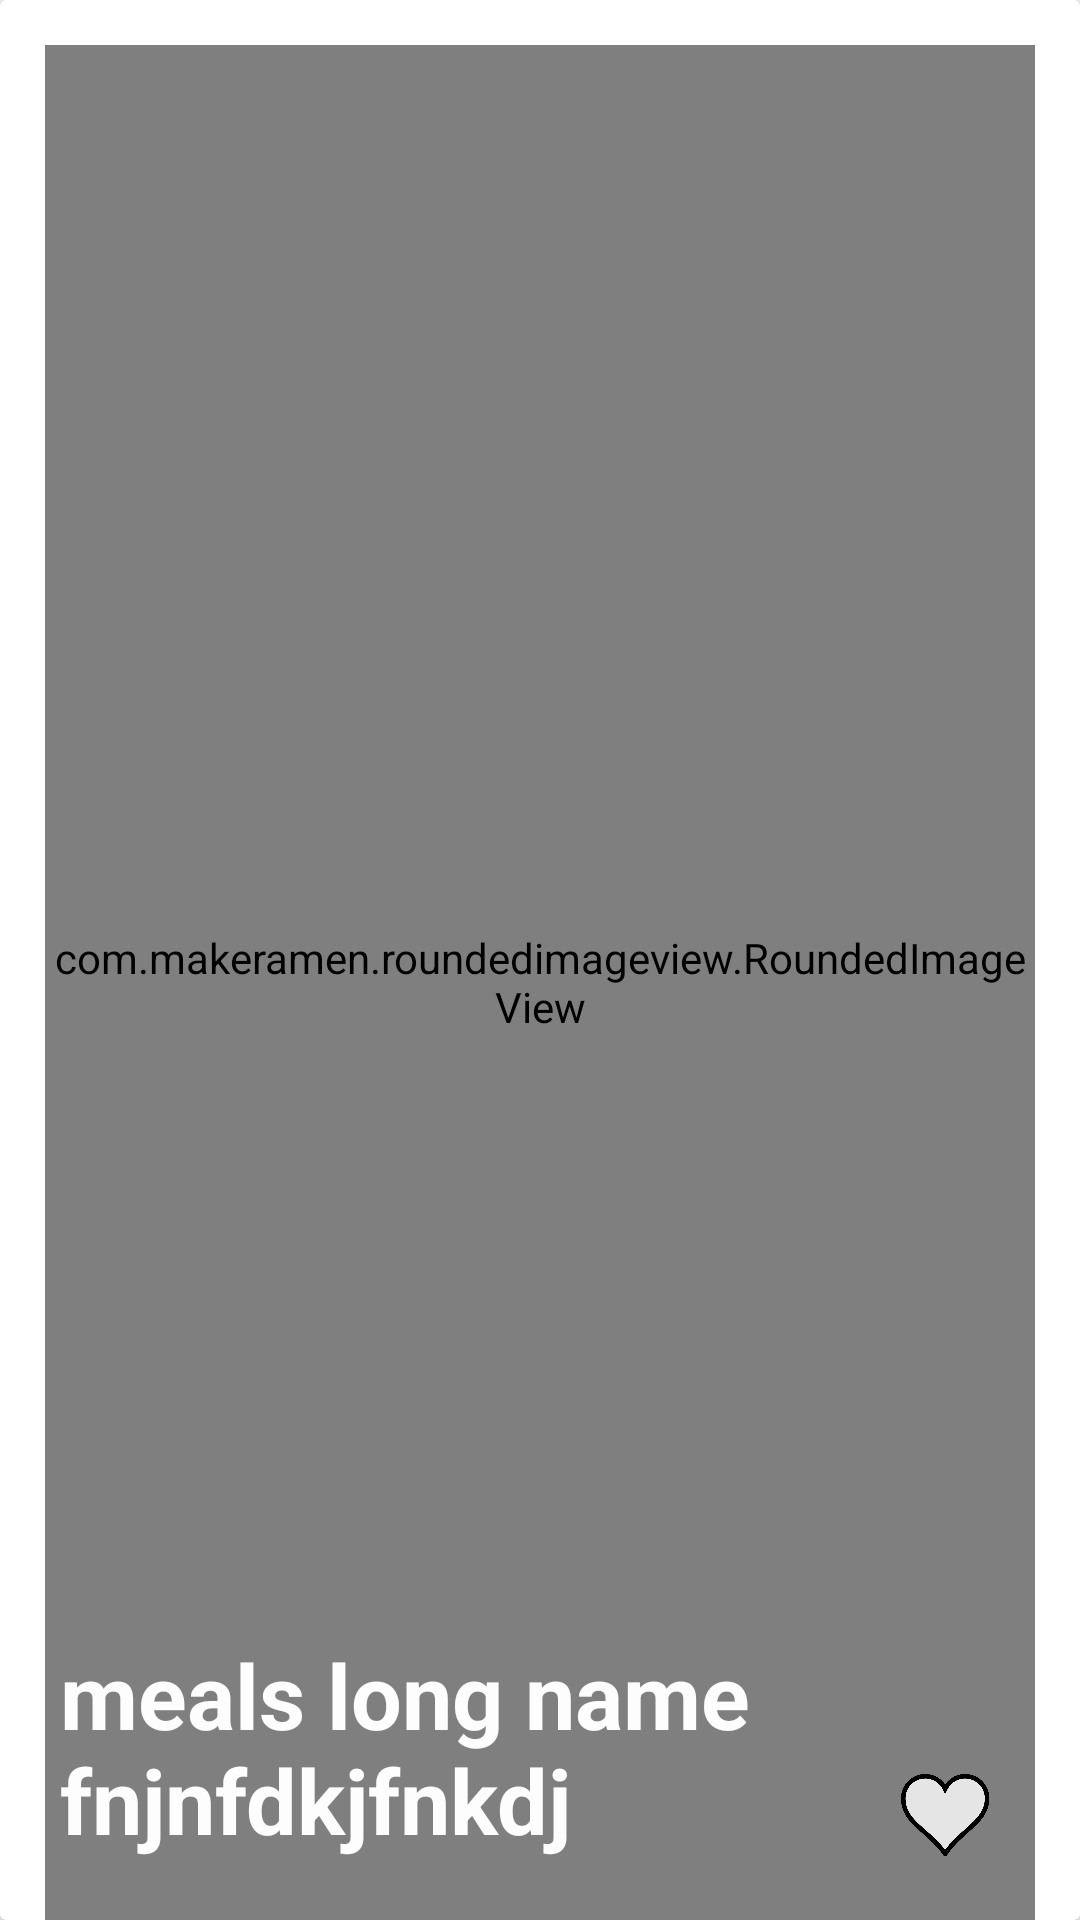

Icon bounding boxes for this 1080x1920 phone screenshot, format {"left": x1, "top": y1, "right": x2, "bottom": y2}:
empty heart: {"left": 901, "top": 1774, "right": 989, "bottom": 1856}
